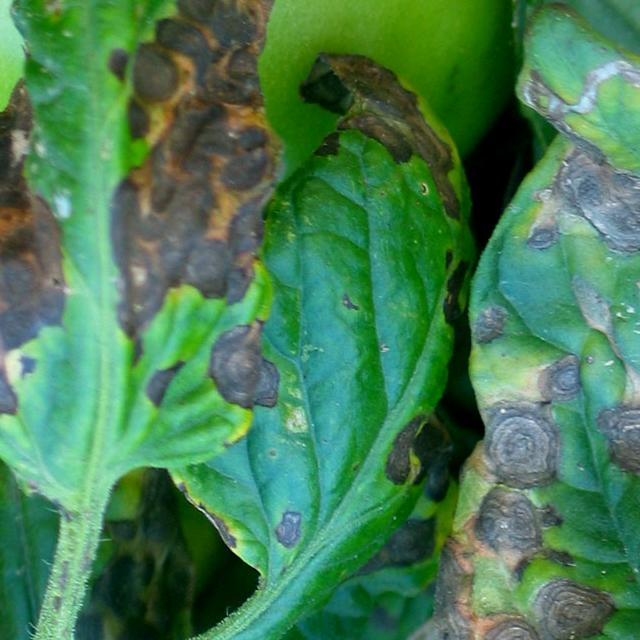Tomato Early blight leaf: (253, 32, 640, 640), (0, 0, 362, 506), (225, 20, 513, 588)
